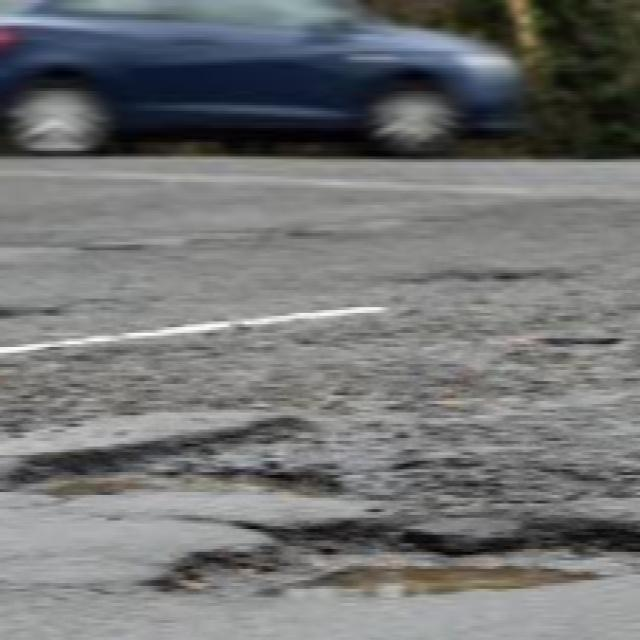Pothole: (13, 409, 640, 607), (411, 269, 553, 282), (527, 333, 629, 351)
